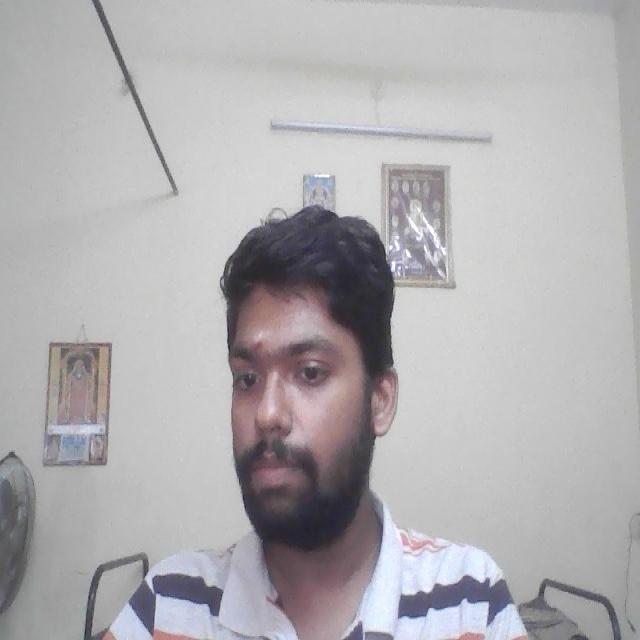Focused: (226, 306, 363, 512)
